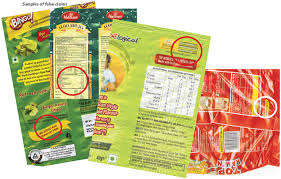plastic: (7, 16, 202, 176), (184, 66, 281, 165)
wrapper: (5, 15, 122, 140), (108, 23, 199, 168), (187, 62, 281, 175)
